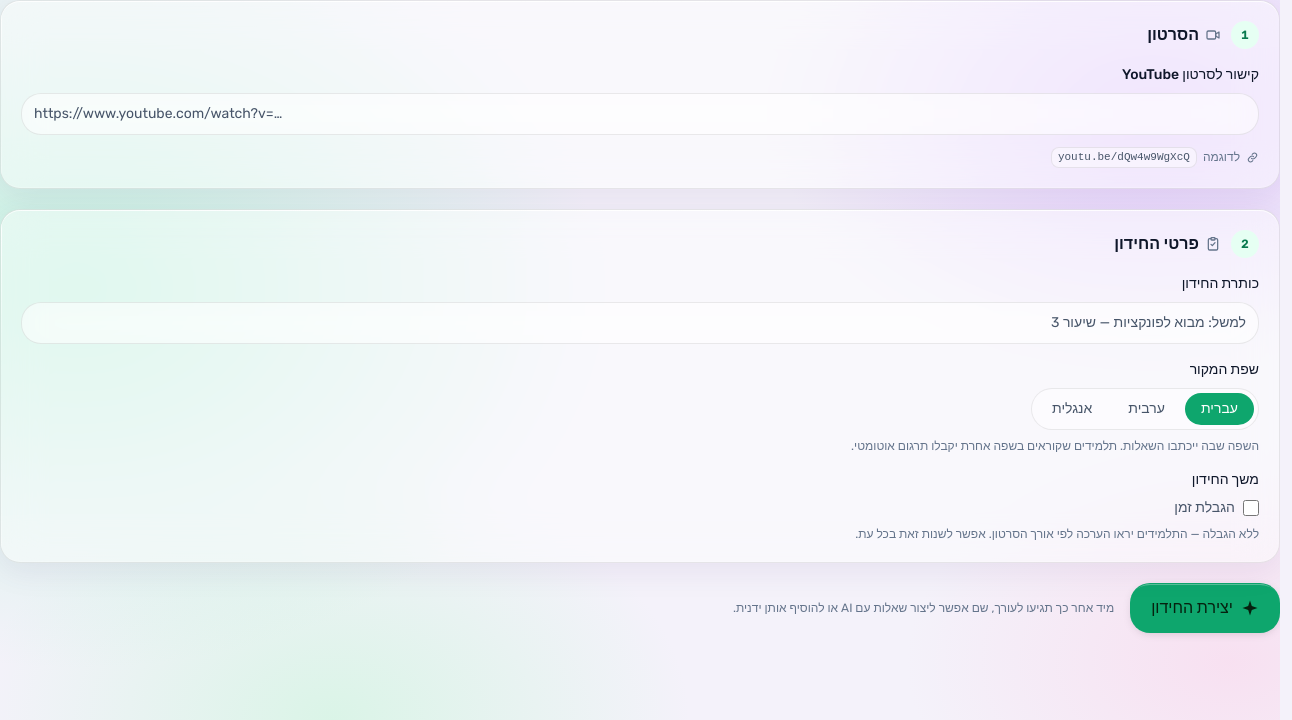
Test case: NewQuizForm › clears the title error as soon as a title is typed
Click the button "יצירת החידון" at (1205, 608), box [1130,583,1280,633]
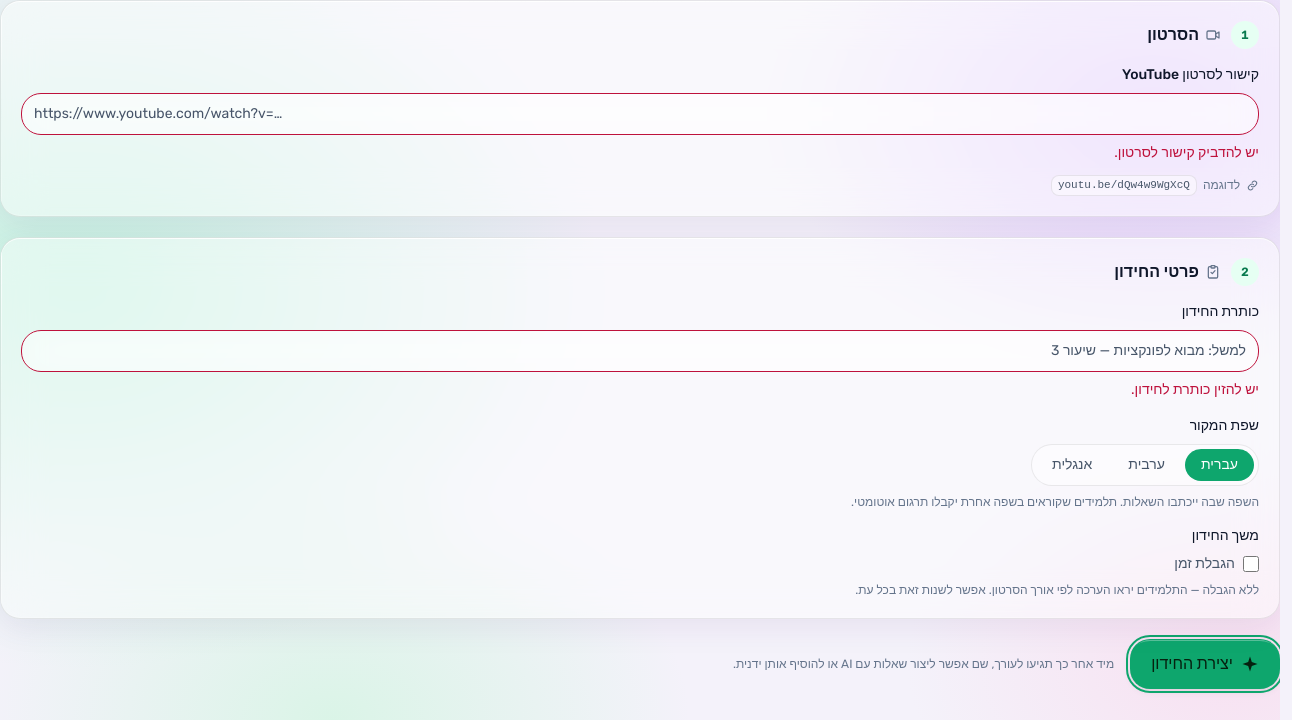
Result: the text "יש להזין כותרת לחידון." is shown at [1131,381,1259,398]
Type "מבוא" into the field labelled "כותרת החידון" at (640, 351), box [21,330,1259,372]
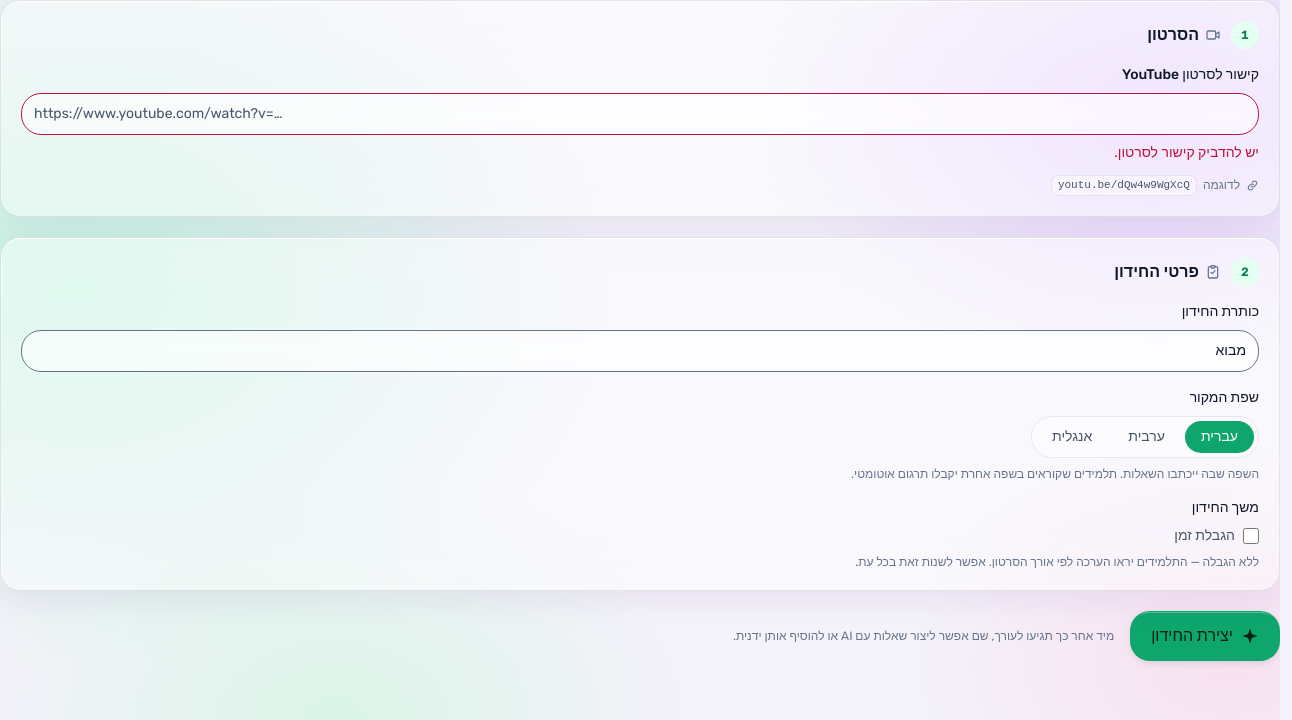
Result: the text "יש להזין כותרת לחידון." is gone
